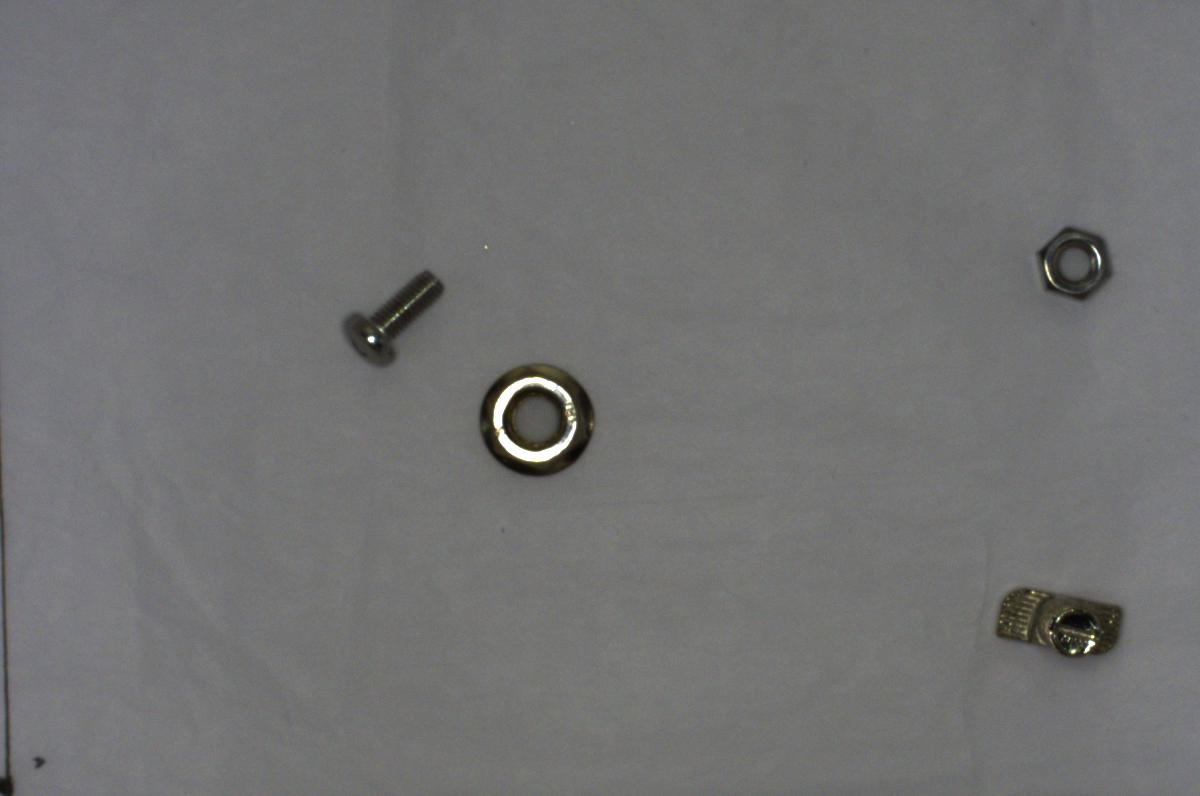Flange nut: (470, 356, 604, 480)
Hexagon nut: (1033, 218, 1120, 309)
Round head screw: (334, 255, 451, 370)
T-shaped screw: (988, 572, 1142, 667)
